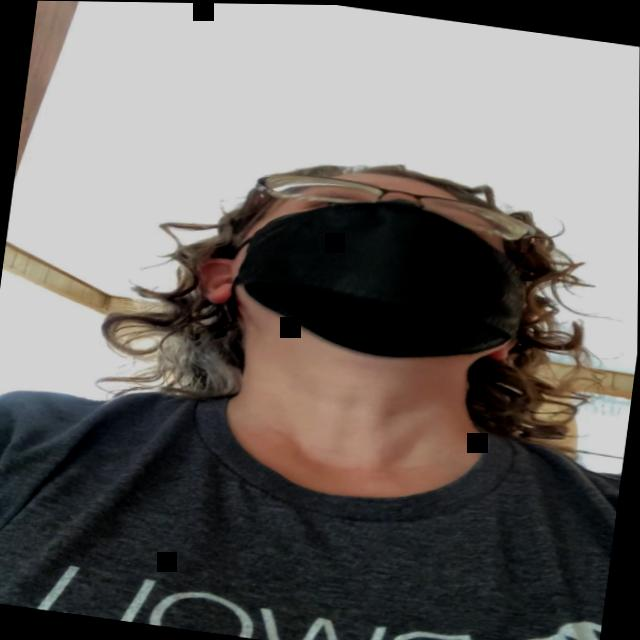Mask: (205, 142, 532, 388)
